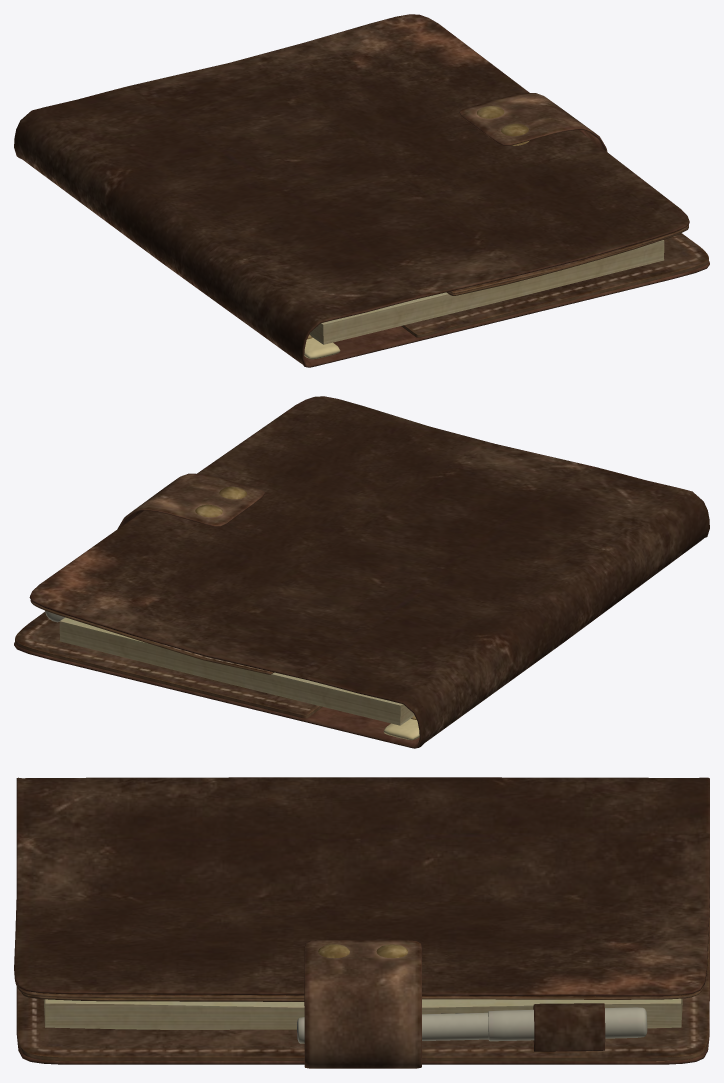
Rendered from book.glb.
3 views of the same model, one above another, from view 1: azimuth 30°, elevation 25°; view 2: azimuth 150°, elevation 25°; view 3: azimuth 270°, elevation 25° (orthographic). The views are drawn at different scales.
Parts seen in each view (by area): view 1: binder_notebook_closed; view 2: binder_notebook_closed; view 3: binder_notebook_closed.
Boxes of the visible parts, x1=… form: binder_notebook_closed: x1=14, y1=14, x2=709, y2=367; binder_notebook_closed: x1=14, y1=396, x2=709, y2=748; binder_notebook_closed: x1=14, y1=777, x2=709, y2=1068.
Bounding box in the file's own units: 0.1706 × 0.0253 × 0.2.
Materials: 1 (1 with a texture image).
